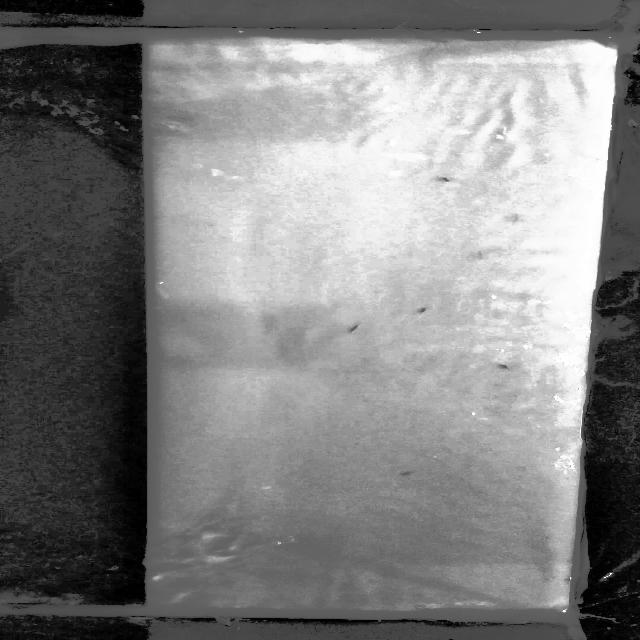shrimp: (430, 171, 466, 193), (405, 303, 437, 319), (488, 360, 517, 376), (338, 323, 375, 333), (394, 467, 418, 480)
